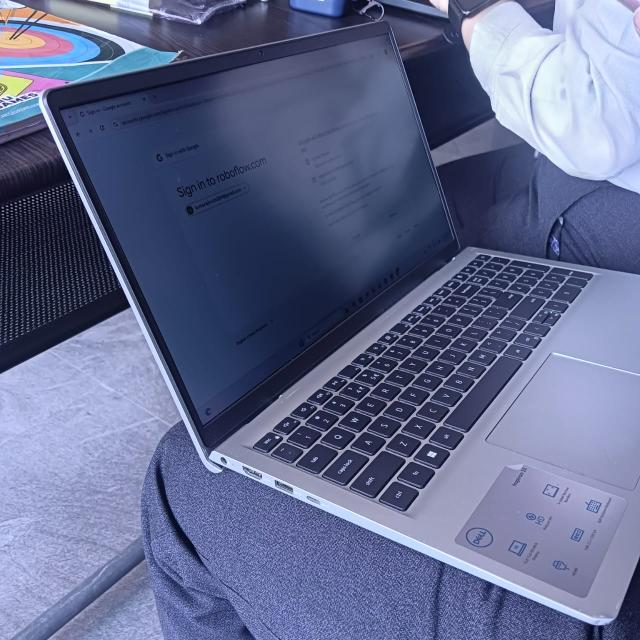laptop: (43, 9, 632, 624)
